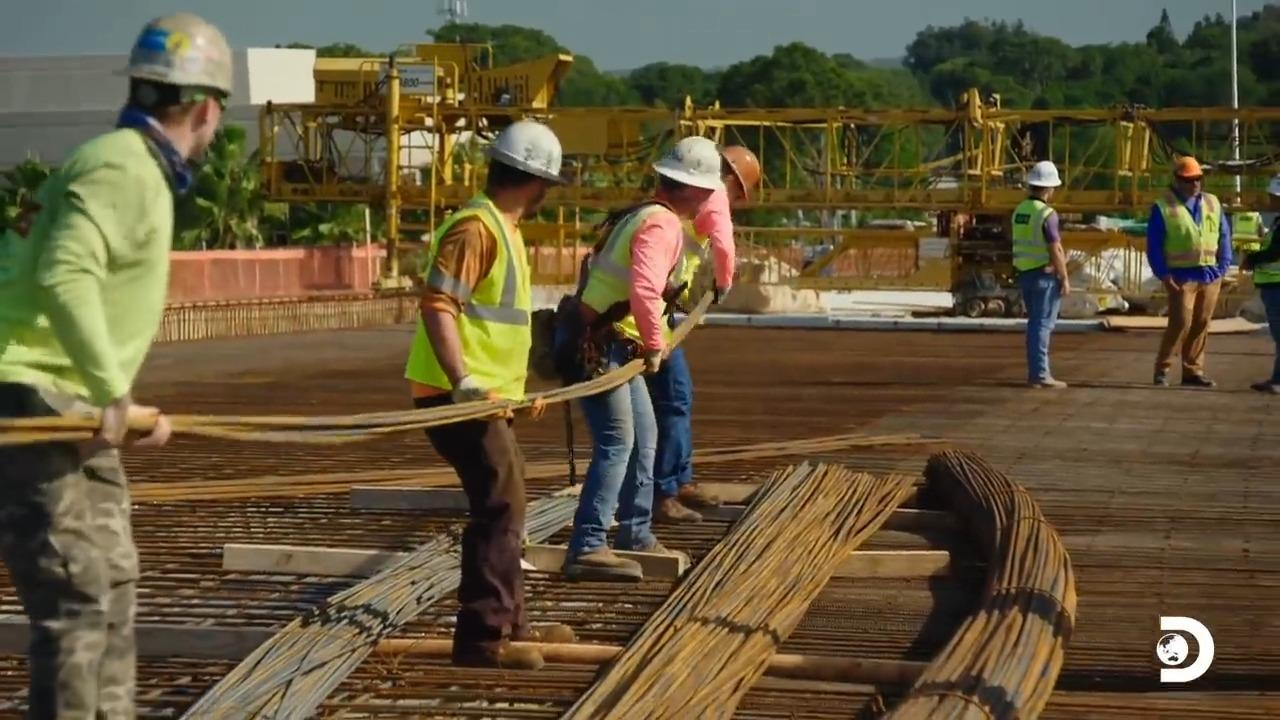Gloves: (85, 395, 156, 455), (447, 375, 496, 413), (512, 389, 549, 419), (633, 339, 664, 372), (703, 277, 734, 307)
Helmet: (111, 12, 233, 97), (483, 119, 565, 185), (651, 135, 725, 192), (719, 144, 761, 201), (1025, 160, 1062, 187), (1173, 156, 1203, 179)
Person: (0, 12, 233, 719), (403, 118, 567, 668), (551, 135, 727, 582), (646, 143, 762, 524), (1137, 157, 1224, 389), (1010, 160, 1071, 389), (1238, 173, 1279, 394)
Safety Boot: (568, 545, 637, 579), (455, 641, 527, 668), (680, 473, 722, 507), (518, 618, 569, 642), (651, 496, 697, 521), (1026, 372, 1065, 391), (1179, 374, 1218, 389), (1253, 377, 1280, 398), (1152, 372, 1170, 386)
Safety Vest: (425, 219, 526, 391), (593, 221, 675, 324), (1170, 195, 1219, 267), (1011, 203, 1050, 265), (1254, 233, 1280, 288)
bare-arms: (1056, 275, 1073, 299)
no-vest: (24, 158, 154, 386)
